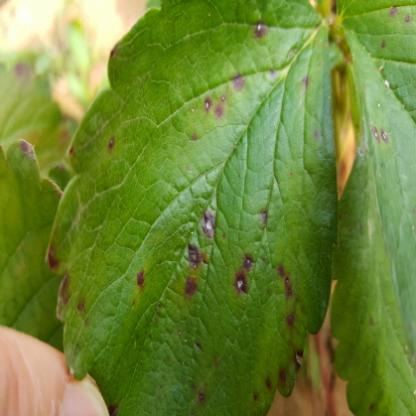Strawberry_Leaf_Spot: (46, 0, 340, 415), (334, 0, 415, 352), (330, 113, 415, 415)
